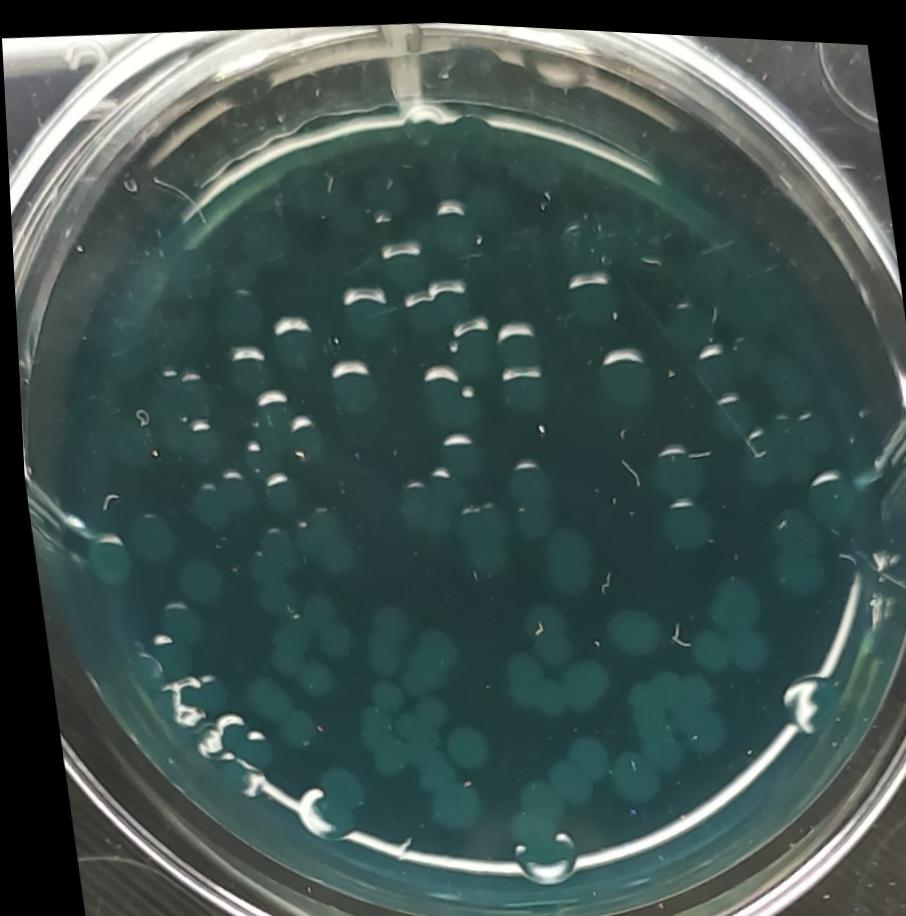pddamselae: (643, 657, 725, 752), (698, 565, 770, 669), (756, 492, 827, 596), (492, 443, 563, 538), (385, 461, 470, 540), (286, 496, 361, 582), (235, 667, 309, 752), (393, 267, 480, 339), (387, 617, 459, 700), (491, 766, 560, 850), (326, 271, 399, 346), (535, 725, 604, 802), (345, 697, 404, 781), (533, 516, 593, 597), (584, 334, 653, 404), (636, 432, 707, 498), (352, 594, 405, 681), (255, 306, 324, 369), (409, 352, 475, 417), (591, 594, 659, 657), (295, 582, 352, 657), (317, 353, 382, 418), (650, 489, 715, 553), (300, 755, 364, 820), (554, 261, 619, 325), (595, 737, 658, 802), (548, 645, 610, 709), (421, 189, 482, 251), (489, 355, 550, 417), (167, 549, 224, 611), (75, 529, 131, 590), (432, 715, 489, 774), (430, 423, 486, 483), (216, 338, 270, 398), (702, 381, 756, 440), (683, 332, 734, 384), (489, 312, 541, 362), (678, 617, 725, 669)
